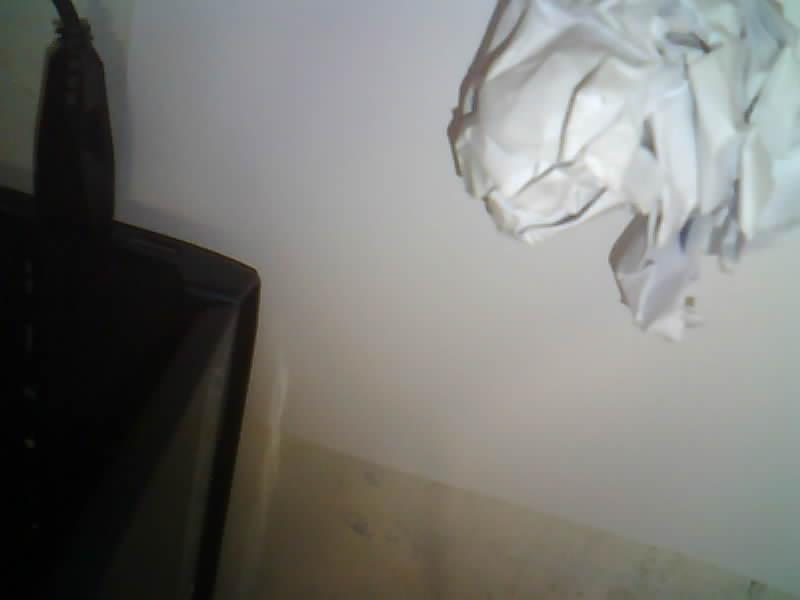biodegradable: (449, 0, 799, 338)
